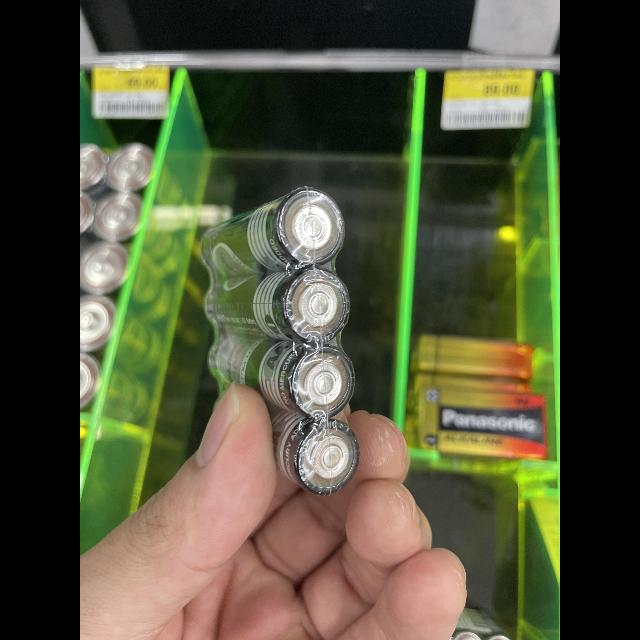battery: (178, 178, 378, 264), (202, 334, 360, 418), (198, 262, 356, 334), (257, 413, 369, 487)
